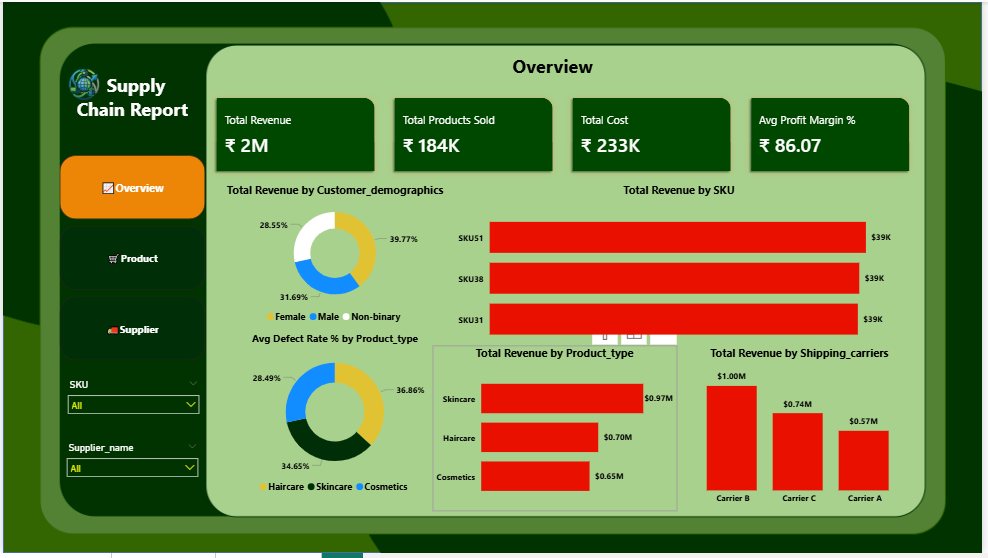

Layout of this report page (visuals, bound fields, positions):
{"tool":"powerbi","page":{"name":"📈Overview","canvas":[1440,810],"ordinal":0},"visuals":[{"type":"cardVisual","fields":{"Data":["Measures Table.Total Revenue","Measures Table.Total Products Sold","Measures Table.Total Cost","Measures Table.Avg Profit Margin %"]},"box":[298.7,125.6,1052.1,140.7],"z":0},{"type":"donutChart","fields":{"Y":["Measures Table.Total Revenue"],"Category":["supply_chain.Customer_demographics"]},"box":[311.7,266.3,352.9,216.5],"z":1000},{"type":"donutChart","fields":{"Y":["Measures Table.Avg Defect Rate %"],"Category":["supply_chain.Product_type"]},"box":[311.7,482.8,352.9,249],"z":2000},{"type":"clusteredBarChart","fields":{"Y":["Measures Table.Total Revenue"],"Category":["supply_chain.Product_type"]},"box":[632.1,504.4,359.4,244.6],"z":3000},{"type":"clusteredBarChart","fields":{"Y":["Measures Table.Total Revenue"],"Category":["supply_chain.SKU"]},"box":[664.6,266.3,660.3,255.4],"z":4000},{"type":"columnChart","fields":{"Y":["Measures Table.Total Revenue"],"Category":["supply_chain.Shipping_carriers"]},"box":[991.5,504.4,359.4,244.6],"z":5000},{"type":"textbox","box":[744,70.6,147.9,55.2],"z":6000},{"type":"pageNavigator","box":[83.9,225.2,214.2,302.5],"z":7000,"group":"g1"},{"type":"slicer","fields":{"Values":["supply_chain.SKU"]},"box":[86.1,549.8,214.2,77.3],"z":8000,"group":"g1"},{"type":"slicer","fields":{"Values":["supply_chain.Supplier_name"]},"box":[83.9,642.5,214.2,66.2],"z":9000,"group":"g1"},{"type":"textbox","box":[103.8,99.4,181,128.1],"z":9001,"group":"g1"},{"type":"image","box":[48.6,46.4,143.5,150.1],"z":9002,"group":"g1"},{"type":"group","id":"g1","title":"Group 1","box":[48.6,46.4,251.7,662.3],"z":9003}]}

Visuals, with their boxes on the page's 1440x810 design canvas (x1, y1, x2, y2). These are canvas units, not pixel positions in the 988x558 screenshot, which may show the page scaled, cropped or inside an application window:
cardVisual - Measures Table.Total Revenue x Measures Table.Total Products Sold: left=299, top=126, right=1351, bottom=266
donutChart - Measures Table.Total Revenue x supply_chain.Customer_demographics: left=312, top=266, right=665, bottom=483
donutChart - Measures Table.Avg Defect Rate % x supply_chain.Product_type: left=312, top=483, right=665, bottom=732
clusteredBarChart - Measures Table.Total Revenue x supply_chain.Product_type: left=632, top=504, right=992, bottom=749
clusteredBarChart - Measures Table.Total Revenue x supply_chain.SKU: left=665, top=266, right=1325, bottom=522
columnChart - Measures Table.Total Revenue x supply_chain.Shipping_carriers: left=992, top=504, right=1351, bottom=749
textbox: left=744, top=71, right=892, bottom=126
pageNavigator: left=84, top=225, right=298, bottom=528
slicer - supply_chain.SKU: left=86, top=550, right=300, bottom=627
slicer - supply_chain.Supplier_name: left=84, top=642, right=298, bottom=709
textbox: left=104, top=99, right=285, bottom=228
image: left=49, top=46, right=192, bottom=196
"Group 1" group: left=49, top=46, right=300, bottom=709
